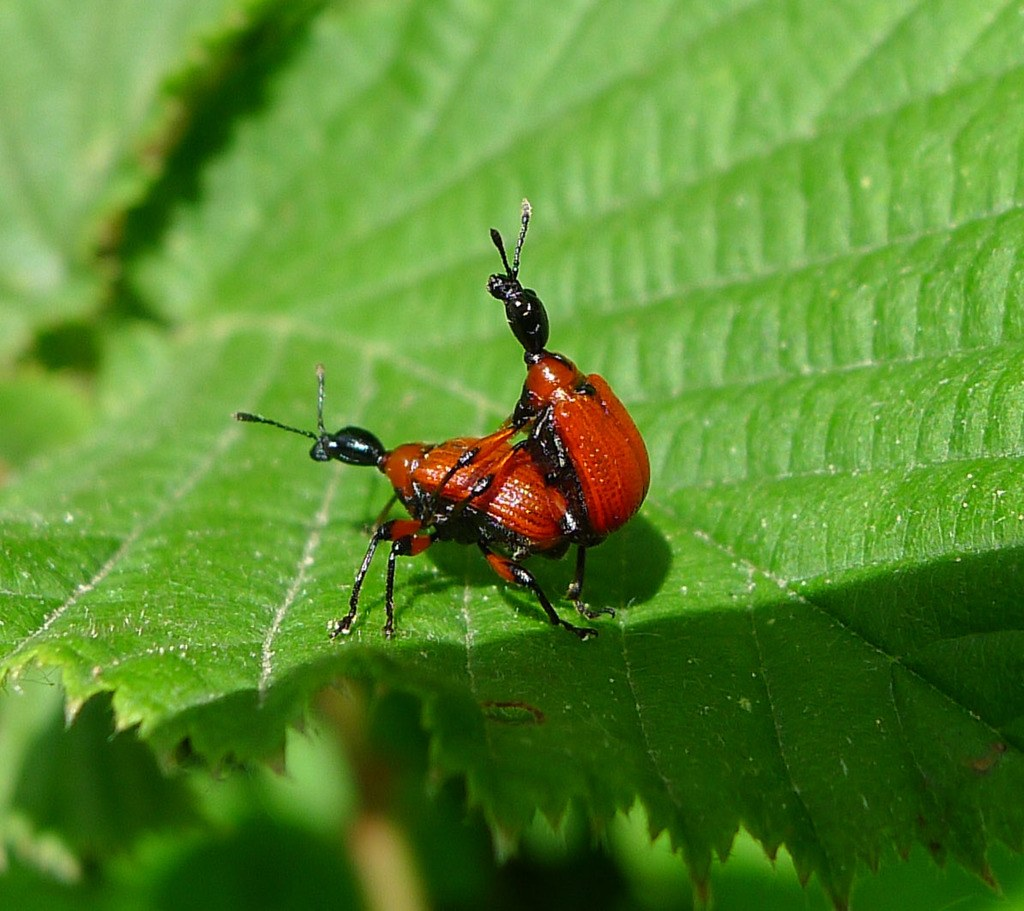insect: (232, 366, 620, 644), (426, 196, 652, 543)
